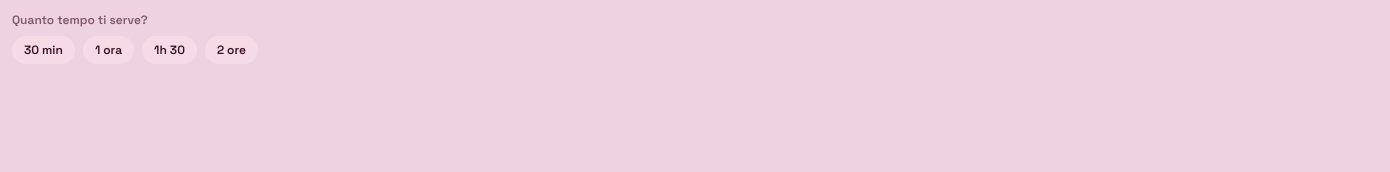
Test: SlotSuggestions — step 2: risultati › mostra l'errore se il fetch fallisce
Click the button "30 min".
click(43, 50)  # box [12,36,75,64]
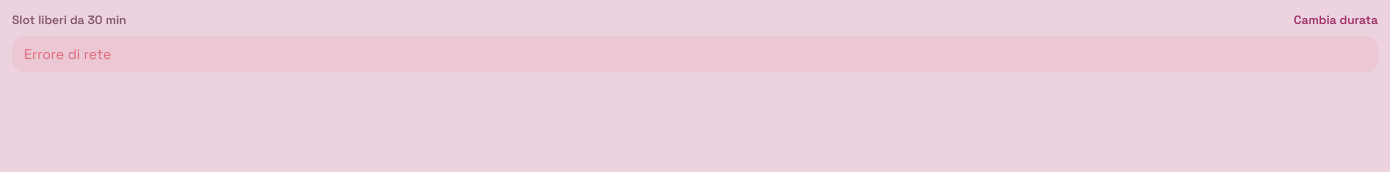
Expected: the text "Errore di rete" is shown, [12,36,1378,72]
